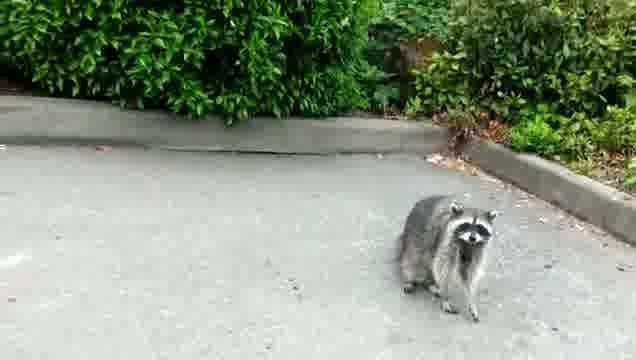raccoon: (397, 193, 500, 327)
